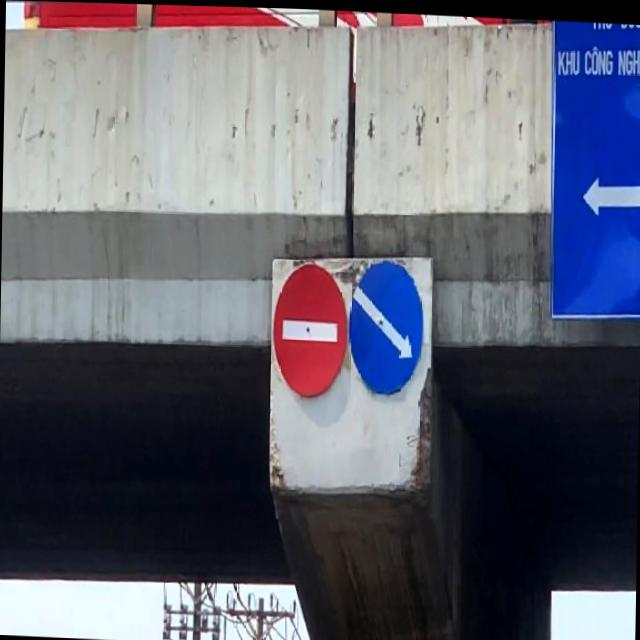Cam di nguoc chieu: (272, 259, 348, 397)
Vong chuong ngai vat sang phai: (347, 255, 424, 393)
